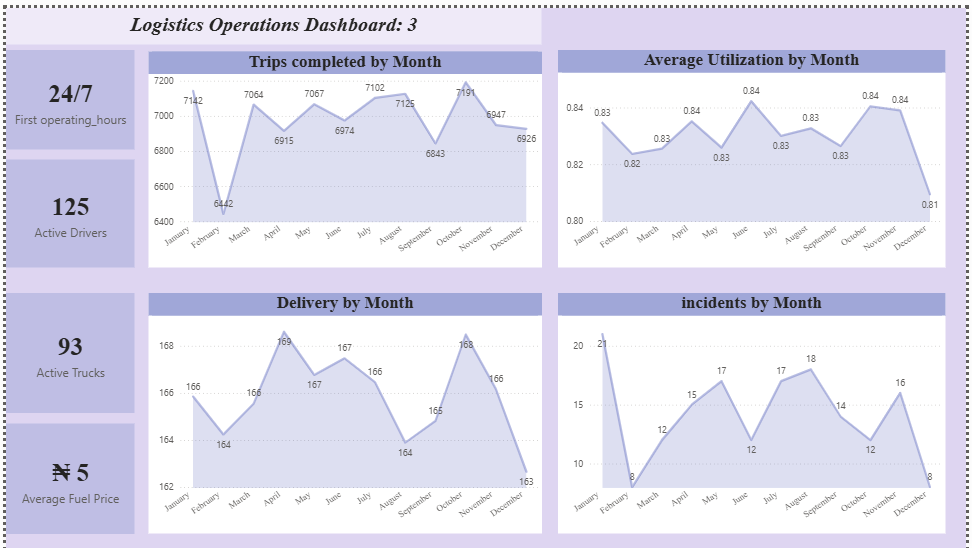

Layout of this report page (visuals, bound fields, positions):
{"tool":"powerbi","page":{"name":"Fleet, Driver & Fuel Performance","canvas":[1280,720],"ordinal":2},"visuals":[{"type":"card","fields":{"Values":["DateTable.Active Drivers"]},"box":[0,202.4,171.6,144.1],"z":0},{"type":"card","fields":{"Values":["DateTable.Active Trucks"]},"box":[0,380.5,171.6,160.3],"z":1000},{"type":"lineChart","fields":{"Y":["DateTable.Average Utilization"],"Category":["truck_utilization_metrics.month.Variation.Date Hierarchy.Month"]},"box":[736.7,56.7,516.5,289.8],"z":2000},{"type":"lineChart","title":"incidents by Month","fields":{"Category":["safety_incidents.incident_date.Variation.Date Hierarchy.Month"],"Y":["CountNonNull(safety_incidents.incident_type)"]},"box":[736.7,380.5,516.5,320.6],"z":3000},{"type":"card","fields":{"Values":["DateTable.Average Fuel Price"]},"box":[0,553.8,171.6,147.3],"z":4000},{"type":"lineChart","title":"Trips completed by Month","fields":{"Category":["truck_utilization_metrics.month.Variation.Date Hierarchy.Month"],"Y":["Sum(truck_utilization_metrics.trips_completed)"]},"box":[189.4,58.3,524.6,288.2],"z":5000},{"type":"lineChart","title":"Delivery by Month","fields":{"Y":["Sum(driver_monthly_metrics.on_time_delivery_rate)"],"Category":["driver_monthly_metrics.month.Variation.Date Hierarchy.Month"]},"box":[189.4,380.5,524.6,320.6],"z":6000},{"type":"card","fields":{"Values":["Min(facilities.operating_hours)"]},"box":[0,56.7,171.6,132.8],"z":7000},{"type":"textbox","box":[0,0,714.1,48.6],"z":8000}]}

Visuals, with their boxes in screenshot pixels (x1, y1, x2, y2), scaled from the page's 1280x720 canvas onto the 972x548 screenshot:
card - DateTable.Active Drivers: 0 154 130 264
card - DateTable.Active Trucks: 0 290 130 412
lineChart - DateTable.Average Utilization x truck_utilization_metrics.month.Variation.Date Hierarchy.Month: 559 43 952 264
"incidents by Month" lineChart: 559 290 952 534
card - DateTable.Average Fuel Price: 0 422 130 534
"Trips completed by Month" lineChart: 144 44 542 264
"Delivery by Month" lineChart: 144 290 542 534
card - Min(facilities.operating_hours): 0 43 130 144
textbox: 0 0 542 37
